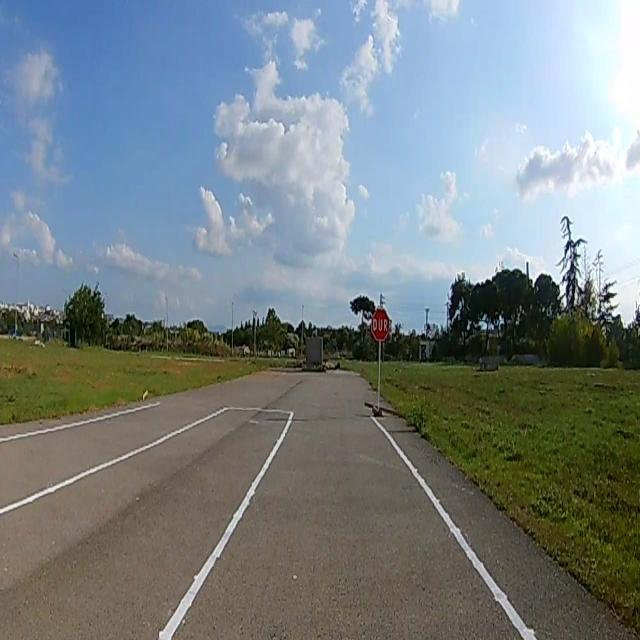dur: (371, 308, 389, 341)
